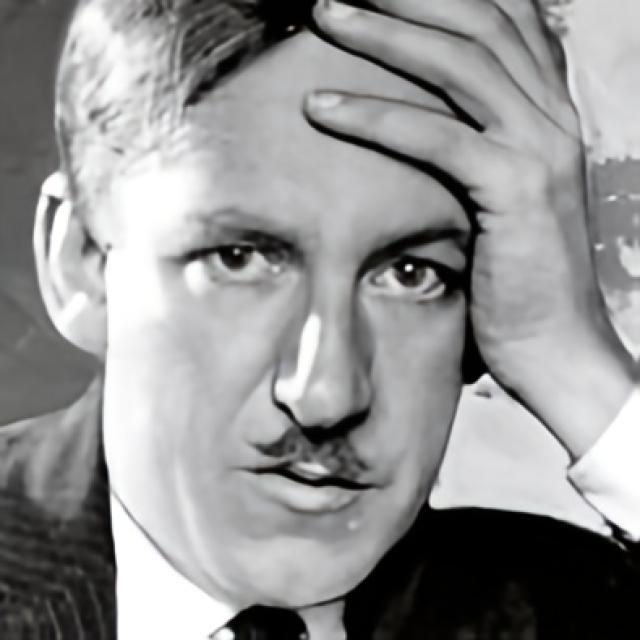anger: (104, 26, 472, 614)
